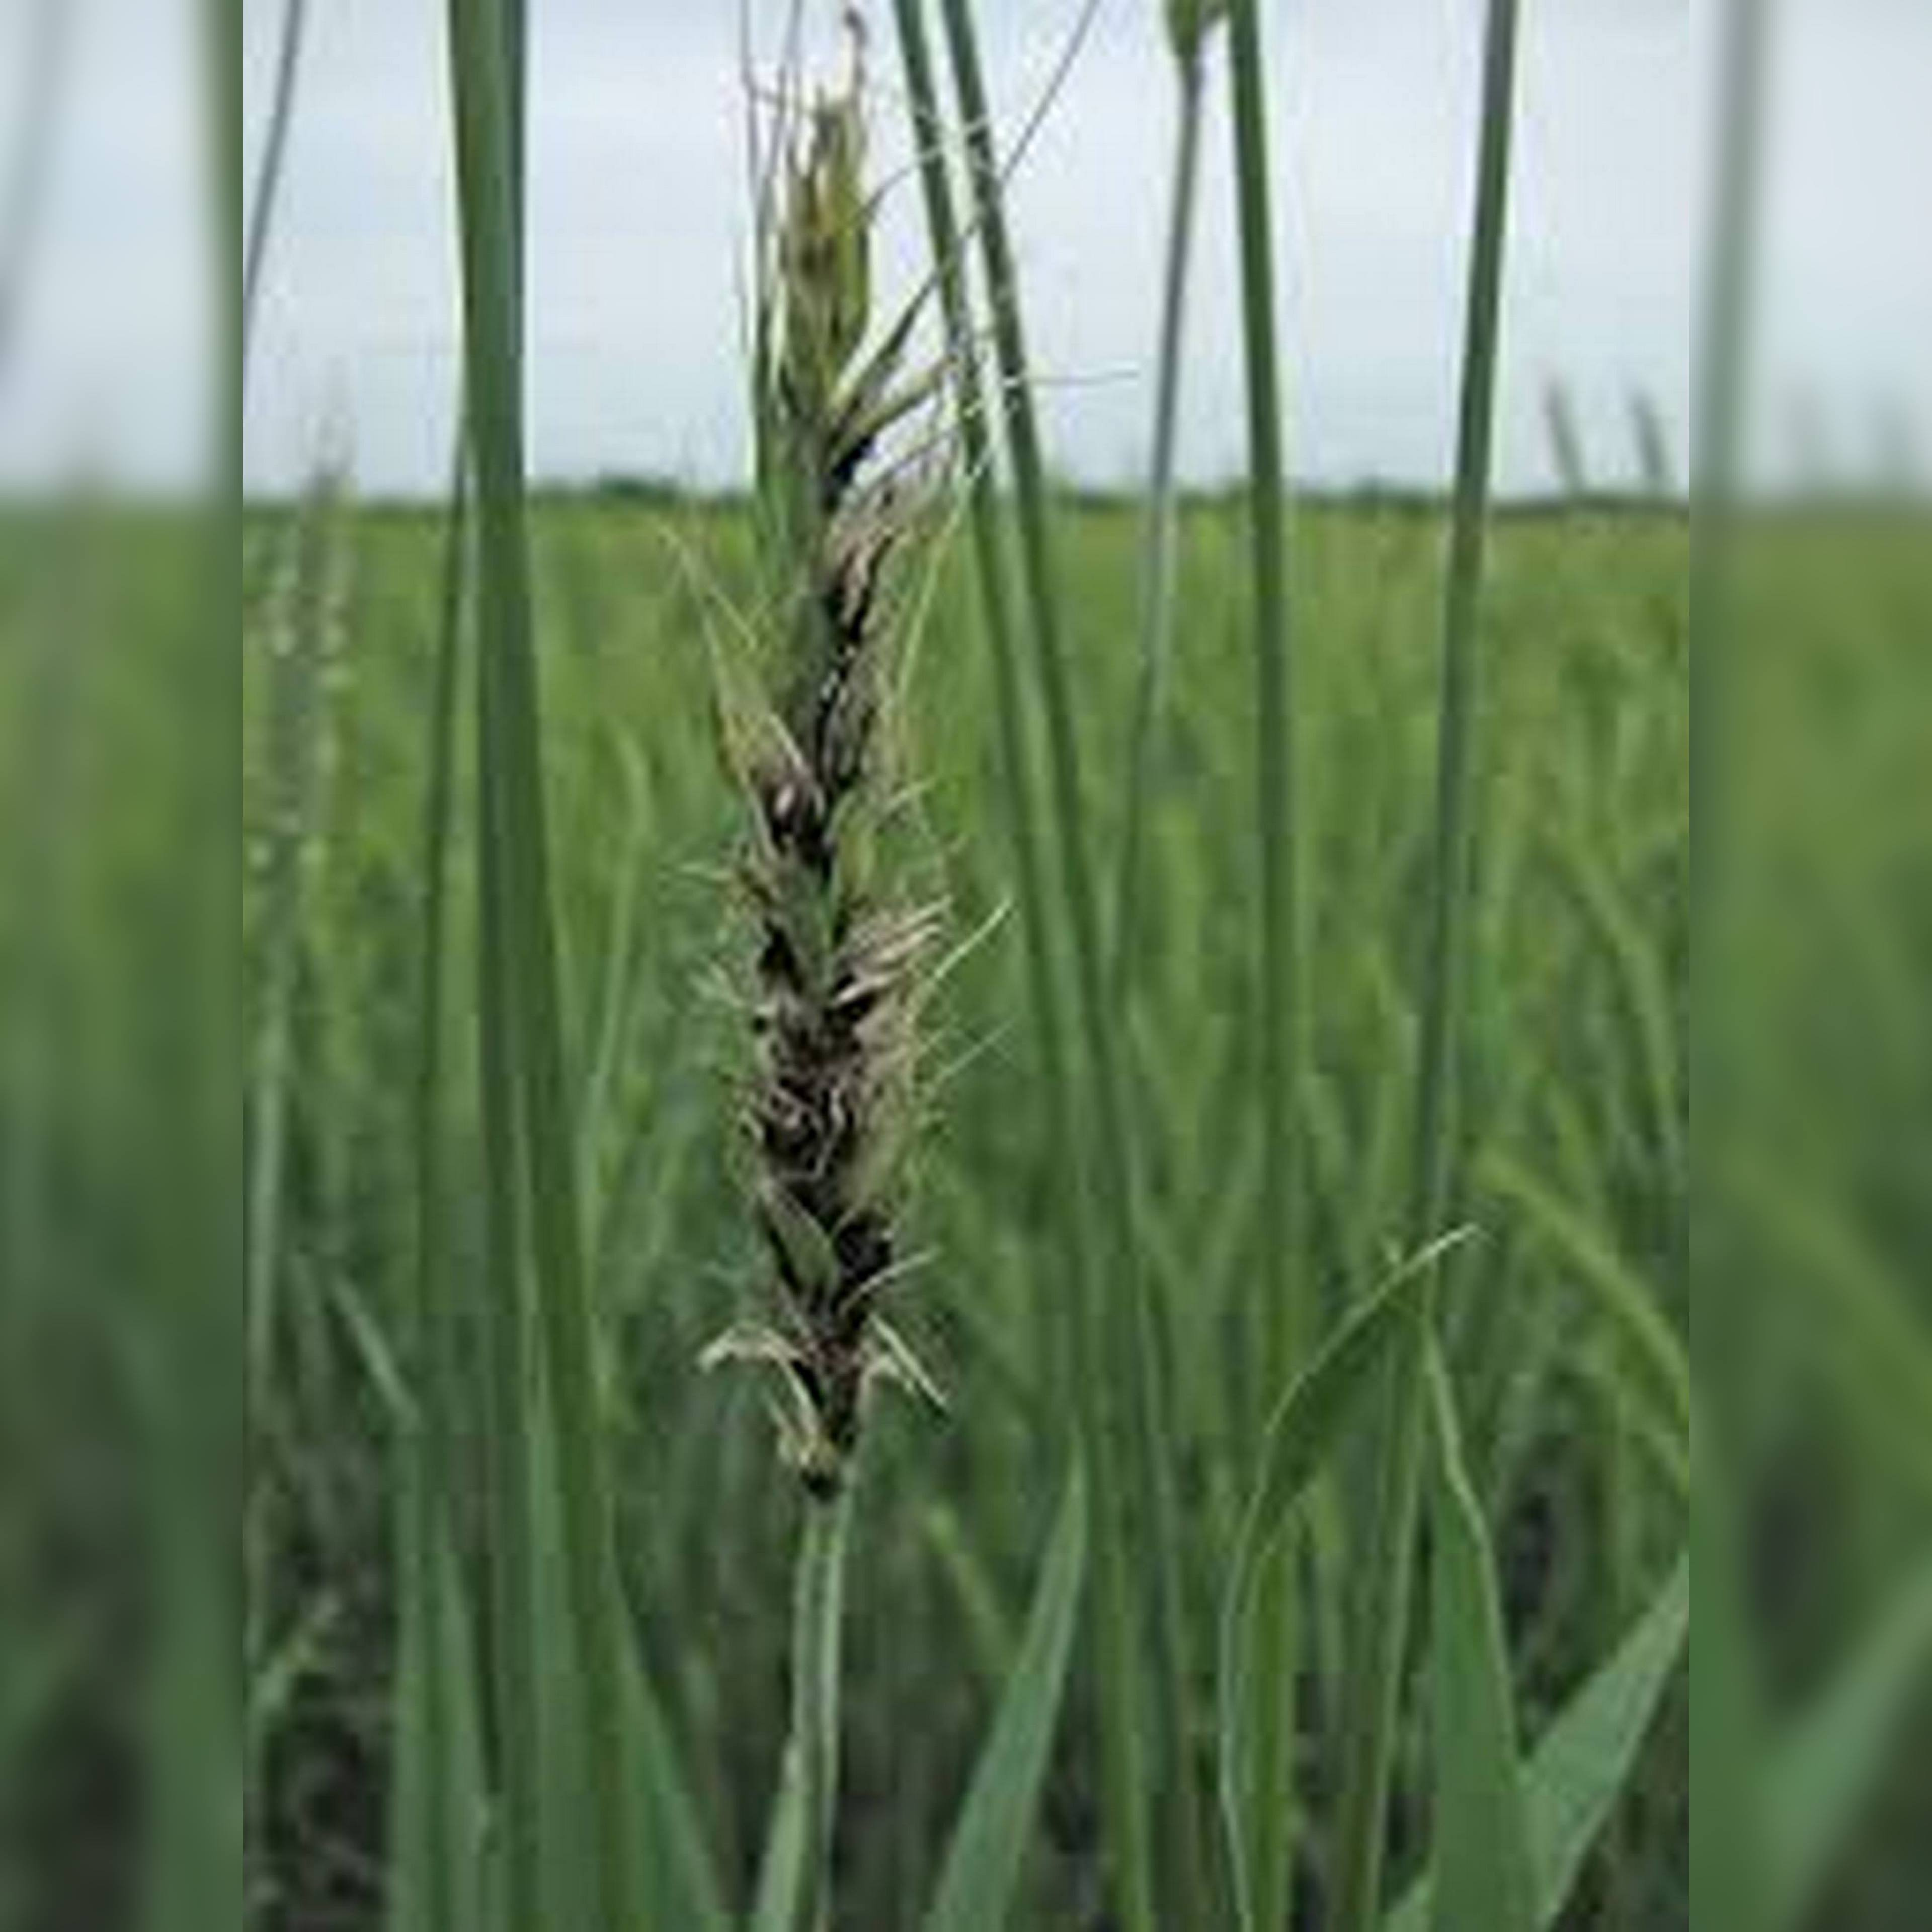Wheat Loose Smut: (690, 416, 964, 1421)
